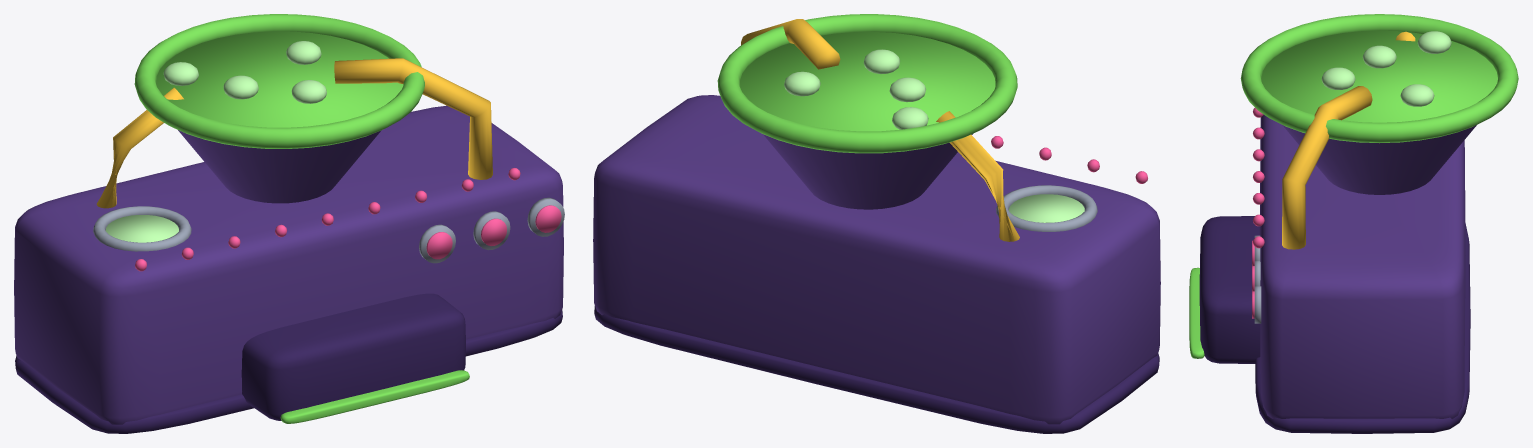
Rendered from P_Gusher.fbx.
3 views of the same model, side by side, from view 1: azimuth 30°, elevation 25°; view 2: azimuth 150°, elevation 25°; view 3: azimuth 270°, elevation 25° (orthographic). The views are drawn at different scales.
Visible parts, largest first — view 1: P_Gusher__Body, P_Gusher__Lime, P_Gusher__BodyDark, P_Gusher__Pipe, P_Gusher__Glass, P_Gusher__Metal, P_Gusher__Light; view 2: P_Gusher__Body, P_Gusher__Lime, P_Gusher__BodyDark, P_Gusher__Glass, P_Gusher__Pipe, P_Gusher__Metal, P_Gusher__Light; view 3: P_Gusher__Body, P_Gusher__Lime, P_Gusher__BodyDark, P_Gusher__Pipe, P_Gusher__Glass, P_Gusher__Light, P_Gusher__Metal.
Part boxes in pixels (x1,y1,x2,y2): P_Gusher__Body: (14, 105, 563, 424); P_Gusher__Lime: (134, 14, 469, 423); P_Gusher__BodyDark: (15, 293, 562, 433); P_Gusher__Pipe: (96, 58, 492, 208); P_Gusher__Glass: (105, 41, 326, 242); P_Gusher__Metal: (93, 197, 564, 263); P_Gusher__Light: (135, 168, 561, 271); P_Gusher__Body: (593, 95, 1160, 424); P_Gusher__Lime: (717, 14, 1017, 153); P_Gusher__BodyDark: (594, 305, 1159, 433); P_Gusher__Glass: (784, 49, 1084, 222); P_Gusher__Pipe: (741, 19, 1019, 241); P_Gusher__Metal: (996, 185, 1097, 231); P_Gusher__Light: (991, 136, 1147, 183); P_Gusher__Body: (1259, 115, 1476, 418); P_Gusher__Lime: (1189, 14, 1518, 358); P_Gusher__BodyDark: (1199, 216, 1470, 433); P_Gusher__Pipe: (1282, 31, 1415, 249); P_Gusher__Glass: (1321, 31, 1451, 106); P_Gusher__Light: (1252, 108, 1264, 318); P_Gusher__Metal: (1254, 235, 1261, 323).
Bounding box in the file's own units: 30.6 × 17.18 × 19.2.
